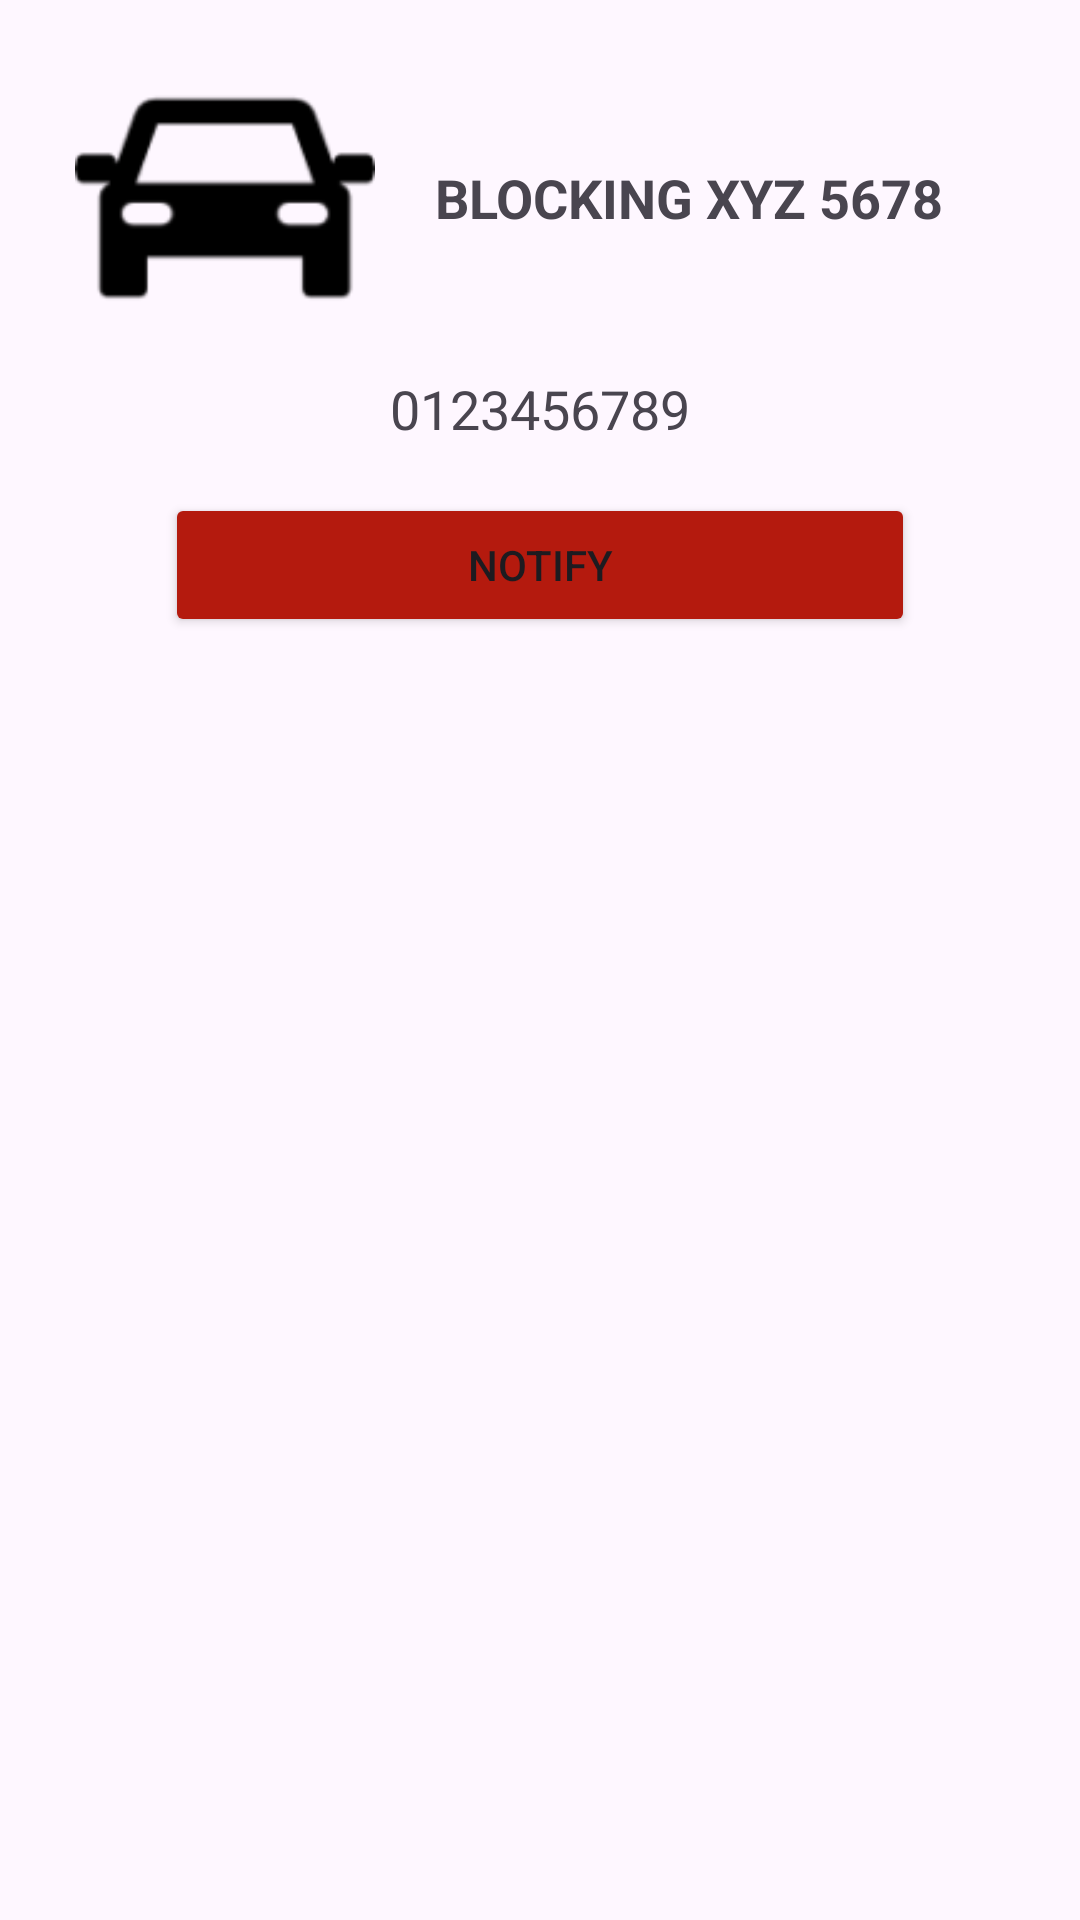

Point at icon controls on the screen. Image size 1080w x 1920h, points as (x,y).
car: (225,198)
